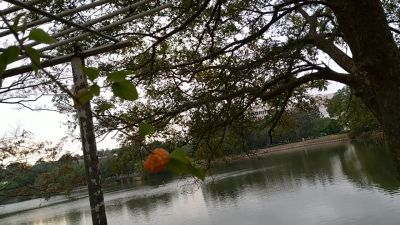eggs: (142, 149, 169, 175)
